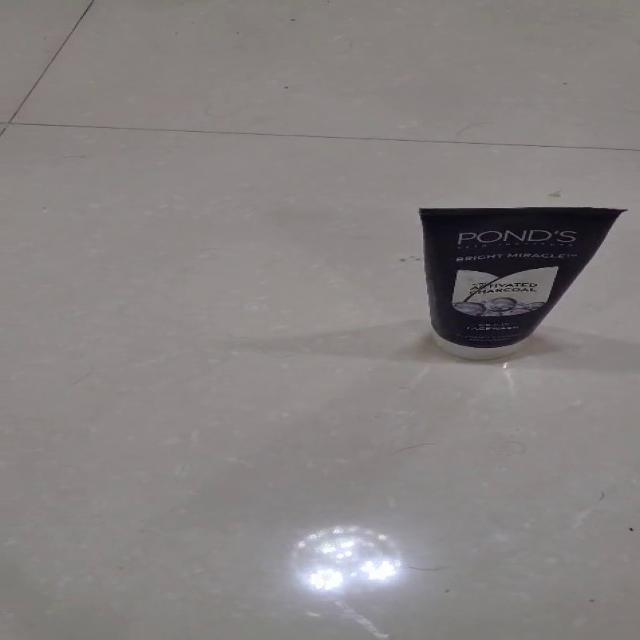plastic: (416, 205, 626, 360)
